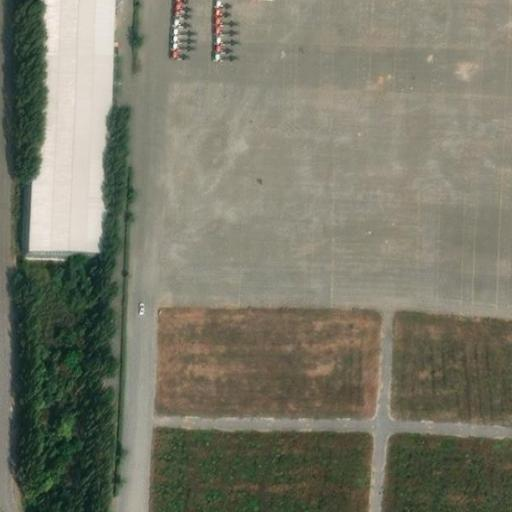building: (32, 0, 105, 244)
